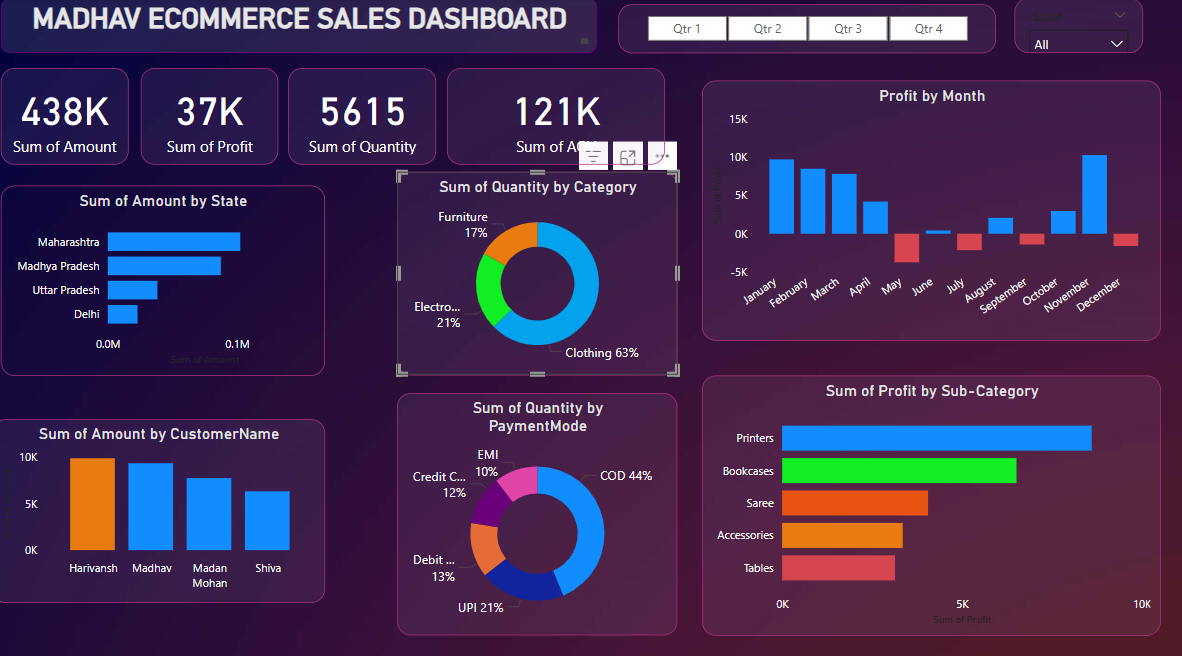

The dashboard page shown, as its layout file describes it:
{"tool":"powerbi","page":{"name":"Page 1","canvas":[1280,720],"ordinal":0},"visuals":[{"type":"textbox","title":"MADHAV ECOMMERCE SALES DASHBOARD","box":[9.4,0,641.5,59.2],"z":0},{"type":"columnChart","title":"Profit by Month","fields":{"Category":["Orders.Order Date.Variation.Date Hierarchy.Month"],"Y":["Details.Profit"]},"box":[764.3,89.2,494,279.9],"z":1000},{"type":"barChart","fields":{"Category":["Details.Sub-Category"],"Y":["Details.Profit"]},"box":[764.3,406.2,494,279.9],"z":2000},{"type":"donutChart","fields":{"Y":["Details.Quantity"],"Category":["Details.PaymentMode"]},"box":[436.4,425.4,301.9,260.7],"z":3000},{"type":"donutChart","fields":{"Category":["Details.Category"],"Y":["Details.Quantity"]},"box":[436.4,186.6,301.9,219.6],"z":4000},{"type":"card","fields":{"Values":["Details.Amount"]},"box":[9.6,75.5,137.2,104.3],"z":5000},{"type":"card","fields":{"Values":["Details.Profit"]},"box":[160.5,75.5,148.2,104.3],"z":6000},{"type":"card","fields":{"Values":["Details.Quantity"]},"box":[318.4,75.5,159.2,104.3],"z":7000},{"type":"card","fields":{"Values":["Details.AOV"]},"box":[489.9,75.5,234.6,104.3],"z":8000},{"type":"barChart","fields":{"Category":["Orders.State","Details.Sub-Category"],"Y":["Details.Amount"]},"box":[9.6,201.7,348.5,204.5],"z":9000},{"type":"columnChart","fields":{"Category":["Orders.CustomerName"],"Y":["Details.Amount"]},"box":[0,452.8,358.1,197.6],"z":10000},{"type":"slicer","fields":{"Values":["Orders.Order Date.Variation.Date Hierarchy.Quarter"]},"box":[673.8,6.7,406.1,52.4],"z":11000},{"type":"slicer","fields":{"Values":["Orders.State"]},"box":[1100.1,0,138.5,59.2],"z":12000}]}

Visuals, with their boxes in screenshot pixels (x1, y1, x2, y2), scaled from the page's 1280x720 canvas onto the 1182x656 screenshot:
"MADHAV ECOMMERCE SALES DASHBOARD" textbox: 9:0:601:54
"Profit by Month" columnChart: 706:81:1162:336
barChart - Details.Sub-Category x Details.Profit: 706:370:1162:625
donutChart - Details.Quantity x Details.PaymentMode: 403:388:682:625
donutChart - Details.Category x Details.Quantity: 403:170:682:370
card - Details.Amount: 9:69:136:164
card - Details.Profit: 148:69:285:164
card - Details.Quantity: 294:69:441:164
card - Details.AOV: 452:69:669:164
barChart - Orders.State x Details.Sub-Category: 9:184:331:370
columnChart - Orders.CustomerName x Details.Amount: 0:413:331:593
slicer - Orders.Order Date.Variation.Date Hierarchy.Quarter: 622:6:997:54
slicer - Orders.State: 1016:0:1144:54
